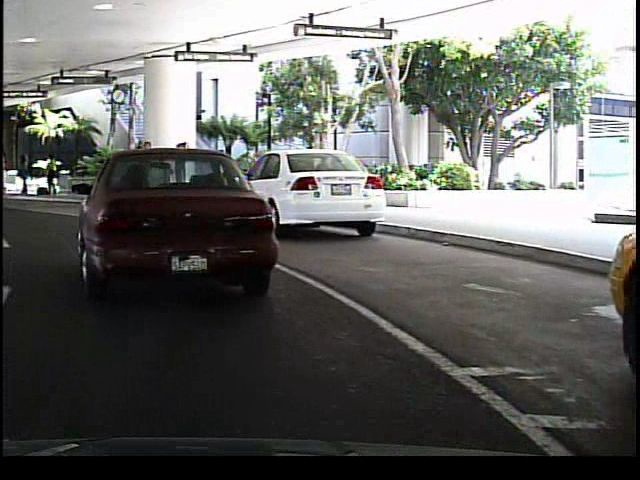person: (134, 135, 157, 204), (168, 137, 193, 200), (207, 145, 234, 196), (237, 145, 260, 188), (42, 154, 64, 197), (16, 148, 34, 198)
